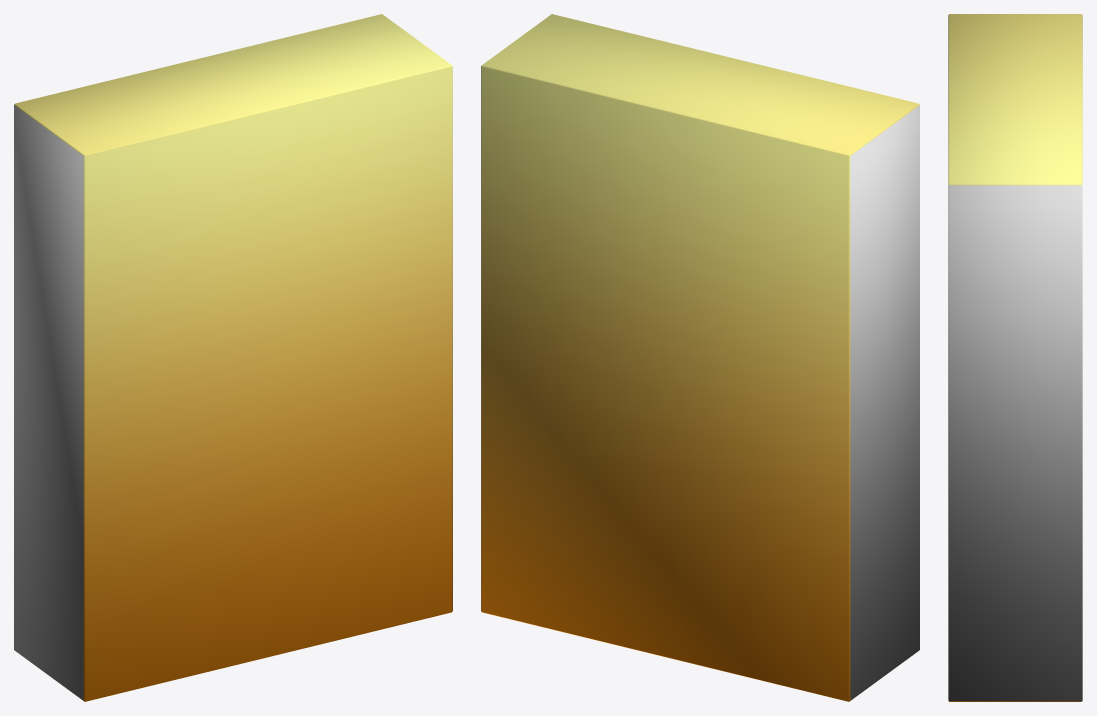
File: cereal_box_01.glb
The picture shows the model from 3 angles, left to right: view 1: azimuth 30°, elevation 25°; view 2: azimuth 150°, elevation 25°; view 3: azimuth 270°, elevation 25°; orthographic projection. The views are drawn at different scales.
Parts seen in each view (by area): view 1: cereal_box; view 2: cereal_box; view 3: cereal_box.
Boxes of the visible parts, left/top/right/bottom form: cereal_box: left=14, top=14, right=452, bottom=701; cereal_box: left=481, top=14, right=919, bottom=701; cereal_box: left=948, top=14, right=1082, bottom=701.
Bounding box in the file's own units: 0.24 × 0.34 × 0.08.
Materials: 1 (1 with a texture image).
